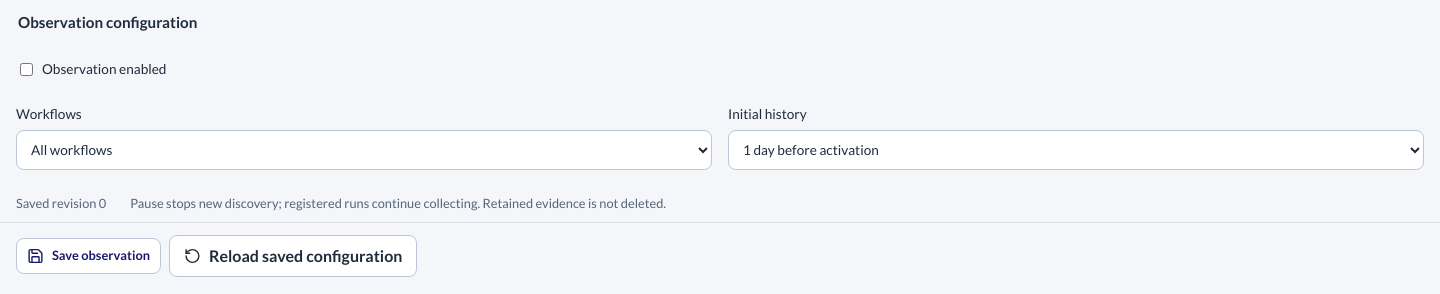
a bounded exact command enables observation, then pauses it without deleting history
The width and height of the screenshot is (1440, 294).
Click the checkbox labelled "Observation enabled" at coordinates (26, 69), box top-left (20, 63), bottom-right (33, 76)
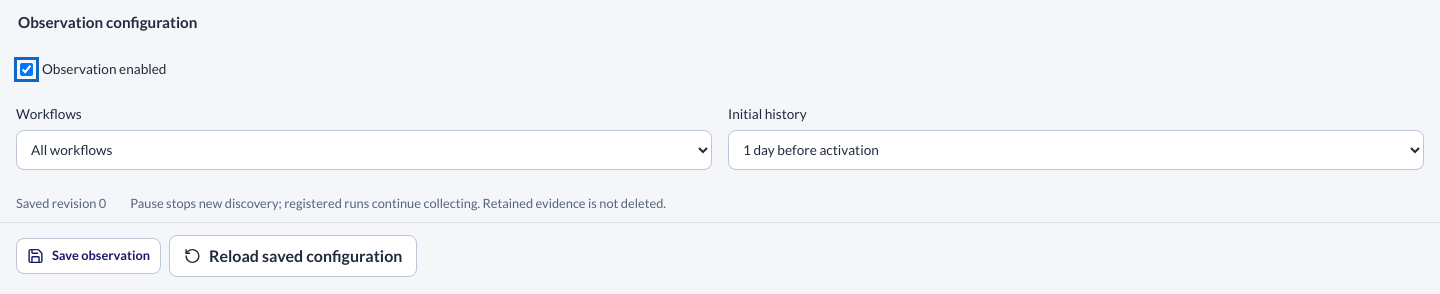
Select "6 days before activation" in the dropdown labelled "Initial history" at coordinates (1076, 150), box top-left (728, 130), bottom-right (1424, 170)
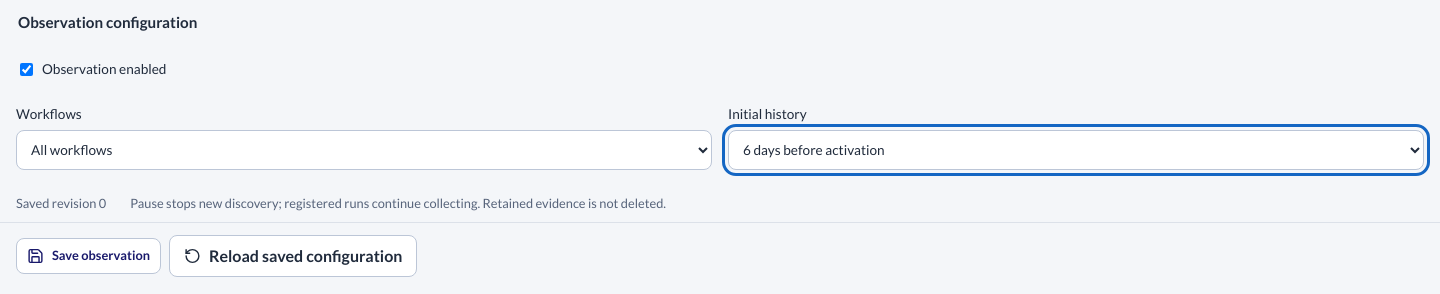
Click the button "Save observation" at coordinates (88, 256), box top-left (16, 238), bottom-right (161, 274)
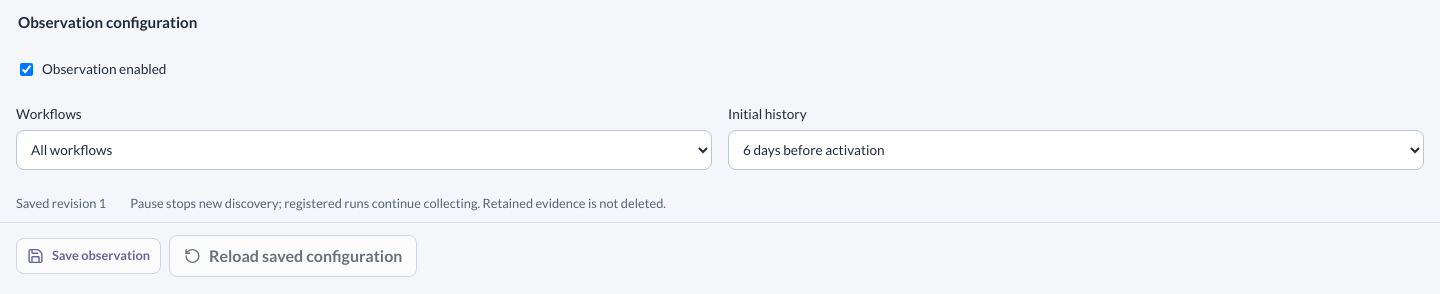
Result: the text "Saved revision 1" is shown at top-left (16, 195), bottom-right (106, 213)
Click the checkbox labelled "Observation enabled" at coordinates (26, 69), box top-left (20, 63), bottom-right (33, 76)
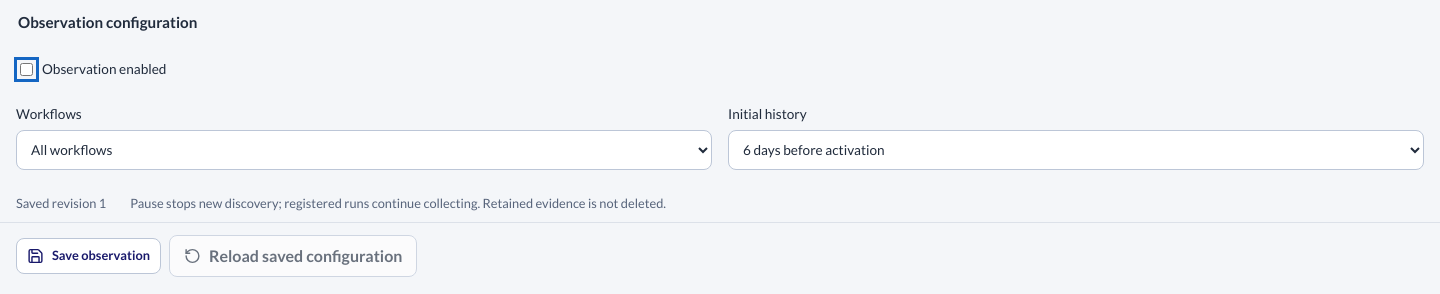
Click the button "Save observation" at coordinates (88, 256), box top-left (16, 238), bottom-right (161, 274)
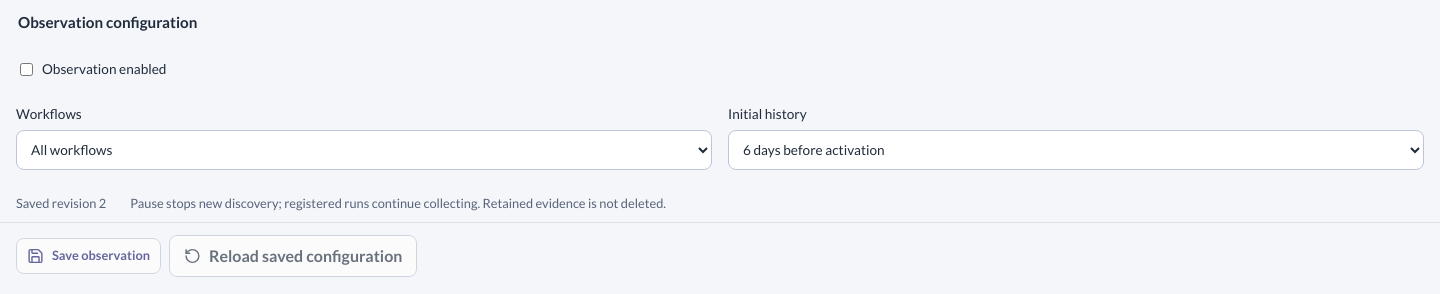
Result: the text "Saved revision 2" is shown at top-left (16, 195), bottom-right (106, 213)
